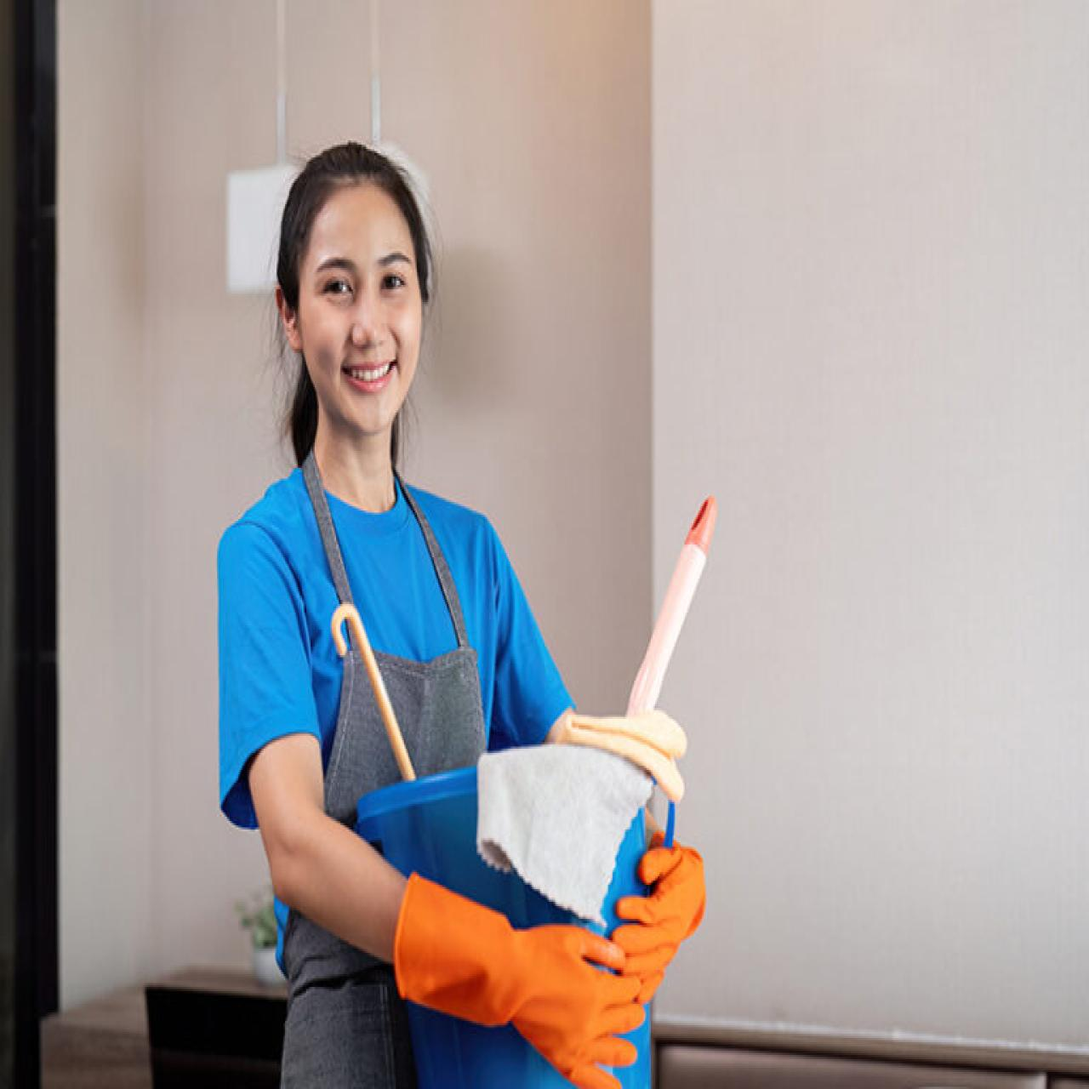NO_Safety_Vest: (238, 481, 518, 1049)
Person: (196, 123, 729, 1089)
